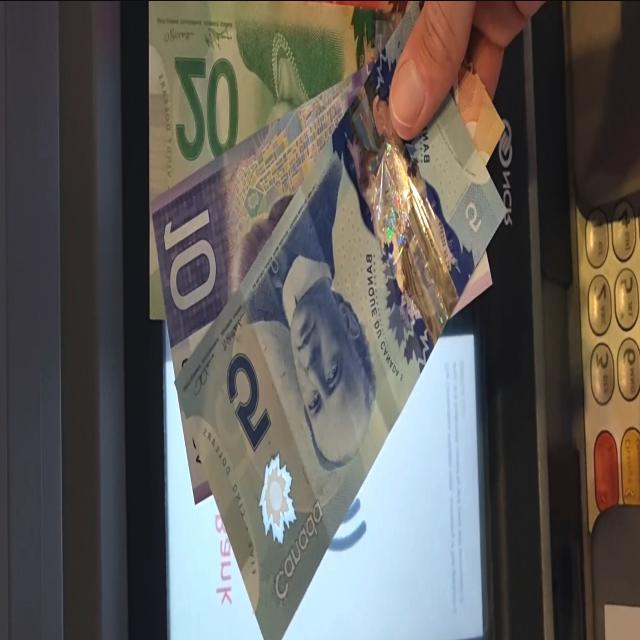10 cad: (155, 62, 374, 381)
20 cad: (153, 0, 400, 198)
5 cad: (174, 70, 506, 640)
